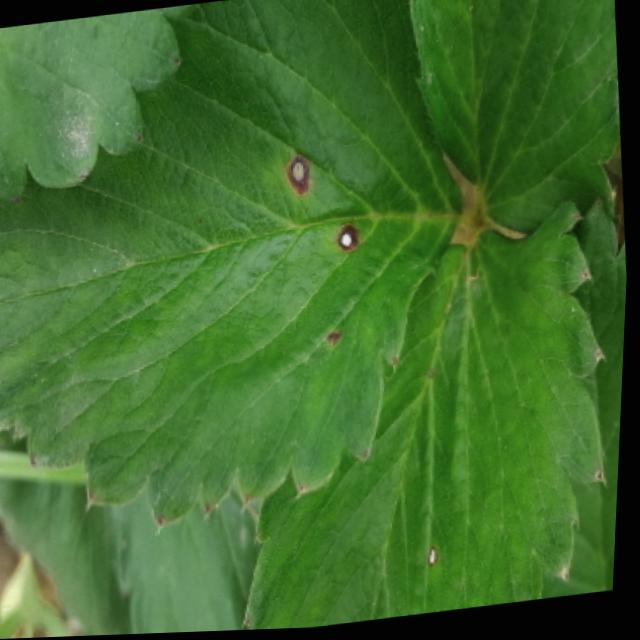Leaf Spot: (0, 0, 464, 530), (245, 201, 612, 632), (410, 0, 622, 236), (0, 3, 202, 198), (547, 172, 629, 603)
